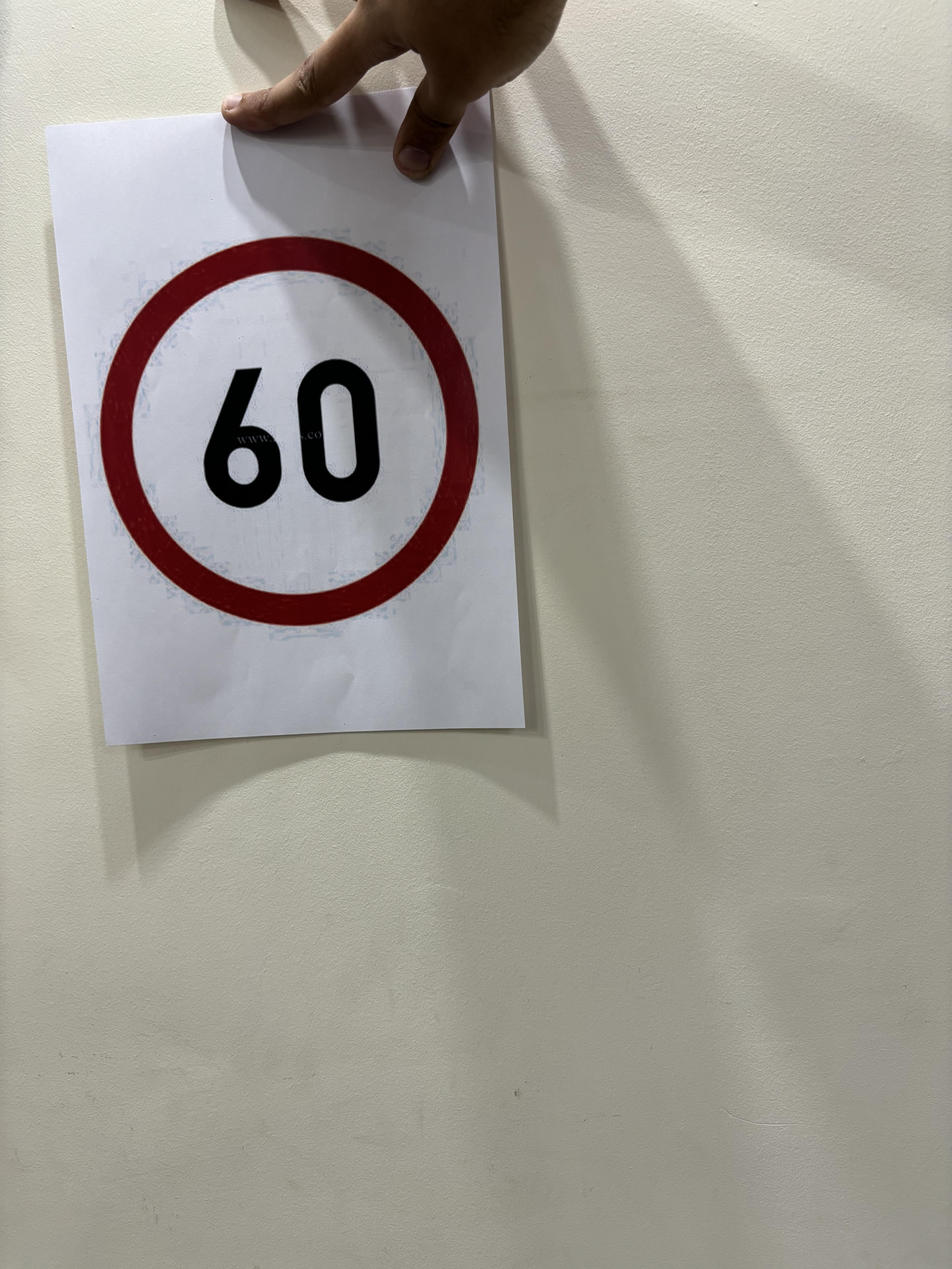60-Speed: (92, 227, 491, 630)
